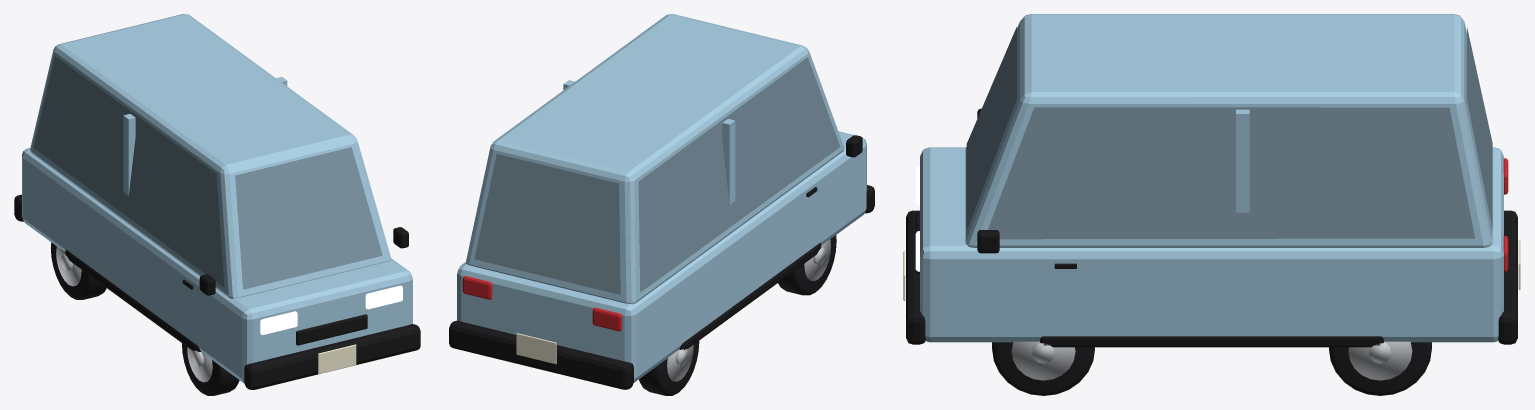
The model's file is van.glb.
3 views of the same model, side by side, from view 1: azimuth 30°, elevation 25°; view 2: azimuth 150°, elevation 25°; view 3: azimuth 270°, elevation 25° (orthographic). The views are drawn at different scales.
Visible parts, largest first — view 1: vanBody, wheelFR, wheelRR; view 2: vanBody, wheelRR, wheelFR; view 3: vanBody, wheelFL, wheelRL.
Boxes of the visible parts, x1,y1,x2,y2 form: vanBody: [14, 14, 420, 389]; wheelFR: [182, 343, 239, 395]; wheelRR: [50, 242, 106, 299]; vanBody: [449, 14, 874, 389]; wheelRR: [639, 341, 699, 395]; wheelFR: [778, 235, 836, 295]; vanBody: [903, 14, 1520, 347]; wheelFL: [992, 341, 1094, 395]; wheelRL: [1329, 341, 1431, 395].
Bounding box in the file's own units: 1.75 × 1.88 × 3.59.
